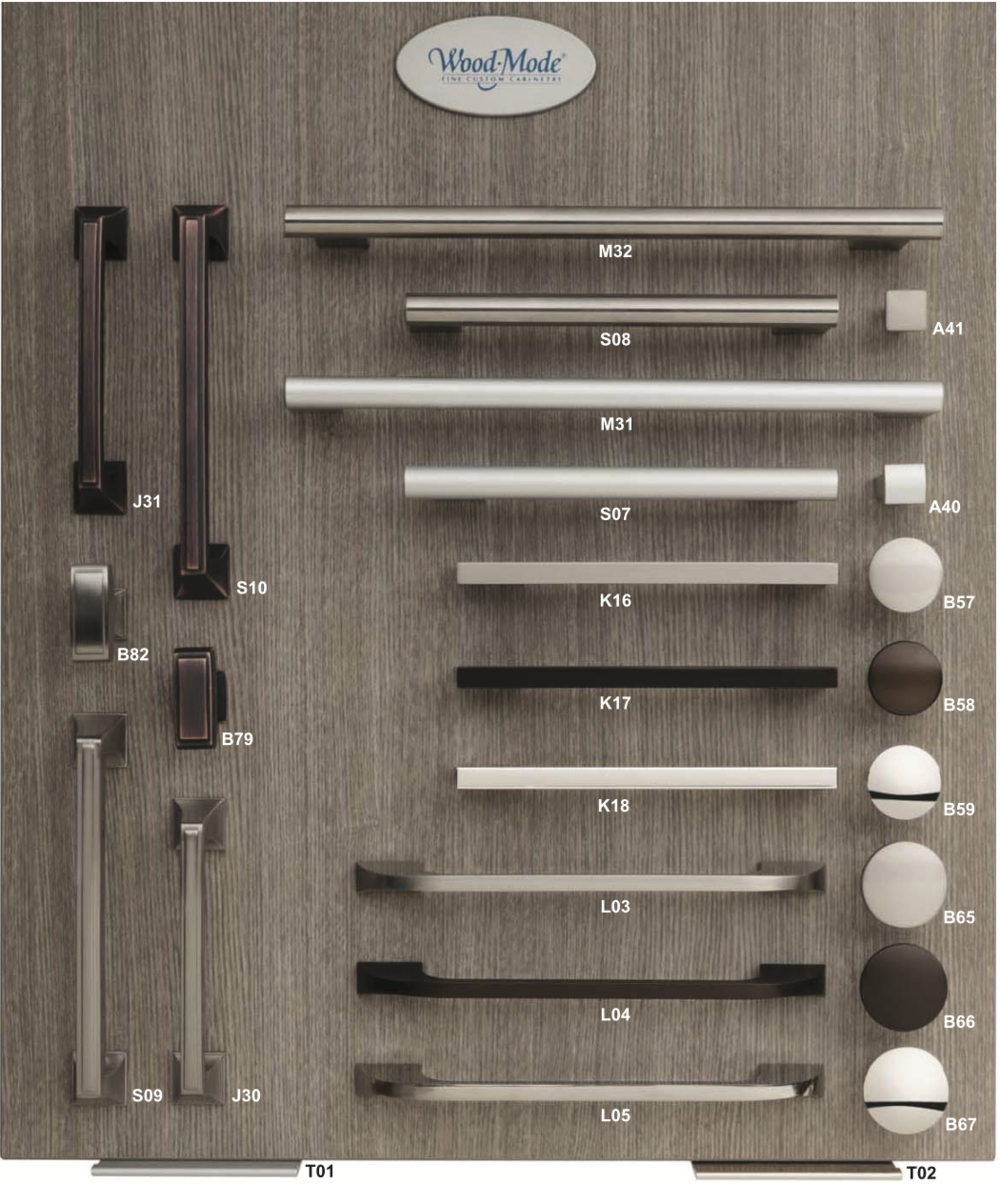handle: (275, 352, 946, 439), (280, 183, 954, 267), (358, 946, 831, 1037), (353, 839, 834, 920), (439, 523, 845, 617), (451, 747, 834, 843), (404, 278, 845, 359), (394, 446, 842, 525), (352, 1050, 816, 1124), (447, 642, 843, 727), (169, 170, 234, 612), (54, 193, 137, 520), (58, 719, 121, 1116), (164, 816, 231, 1113), (850, 831, 955, 945), (858, 1039, 955, 1142), (855, 941, 952, 1034), (862, 729, 946, 831), (860, 535, 955, 624), (167, 639, 233, 764), (865, 630, 950, 721), (62, 558, 124, 670), (868, 453, 944, 523), (877, 283, 934, 352)
